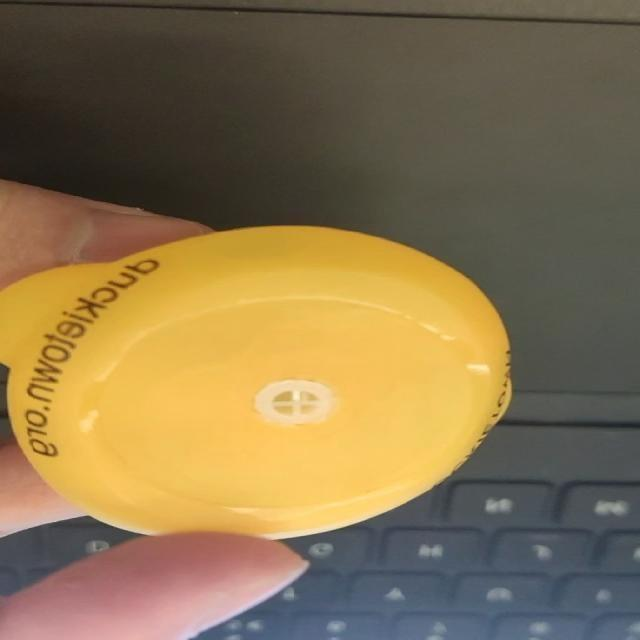rubber-duck: (0, 225, 509, 536)
